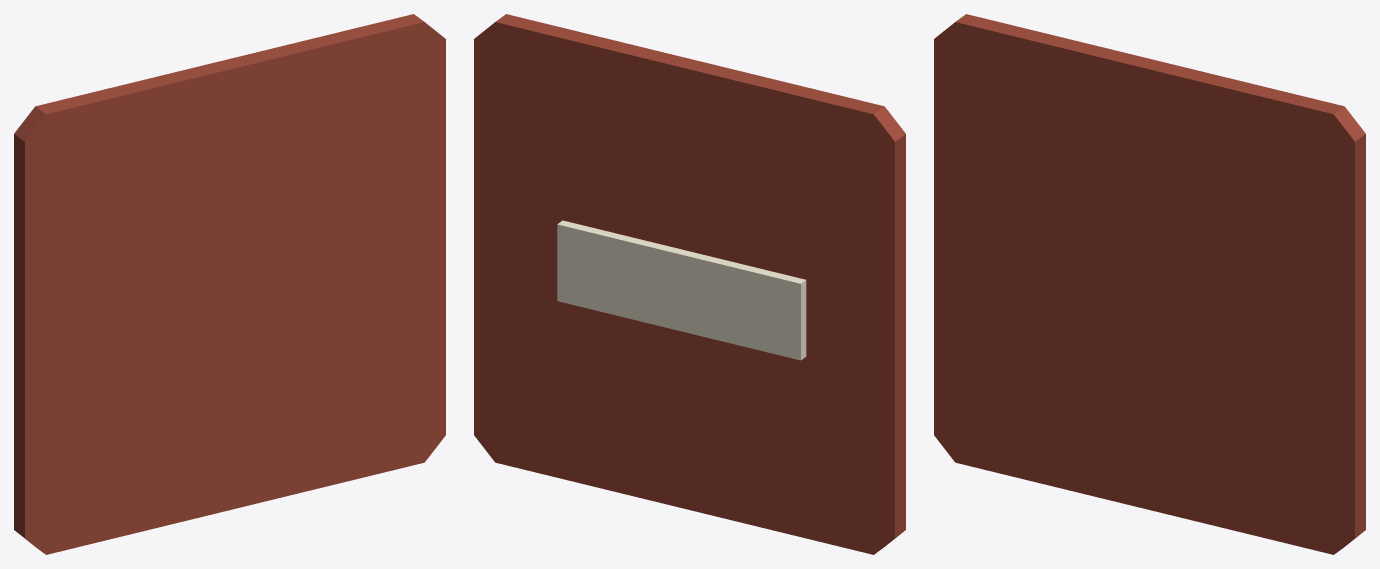
Rendered from lwf_portaloo_indicator_occupied_v1.glb.
The picture shows the model from 3 angles, left to right: view 1: azimuth 30°, elevation 25°; view 2: azimuth 150°, elevation 25°; view 3: azimuth 330°, elevation 25°; orthographic projection.
Visible parts, largest first — view 1: IndicatorOccupied; view 2: IndicatorOccupied; view 3: IndicatorOccupied.
Part boxes in pixels (x1=…): IndicatorOccupied: x1=14, y1=14, x2=445, y2=554; IndicatorOccupied: x1=474, y1=14, x2=905, y2=554; IndicatorOccupied: x1=934, y1=14, x2=1365, y2=554.
Size of the model in its own units: 0.178 by 0.178 by 0.012.
Materials: 1 (1 with a texture image).
